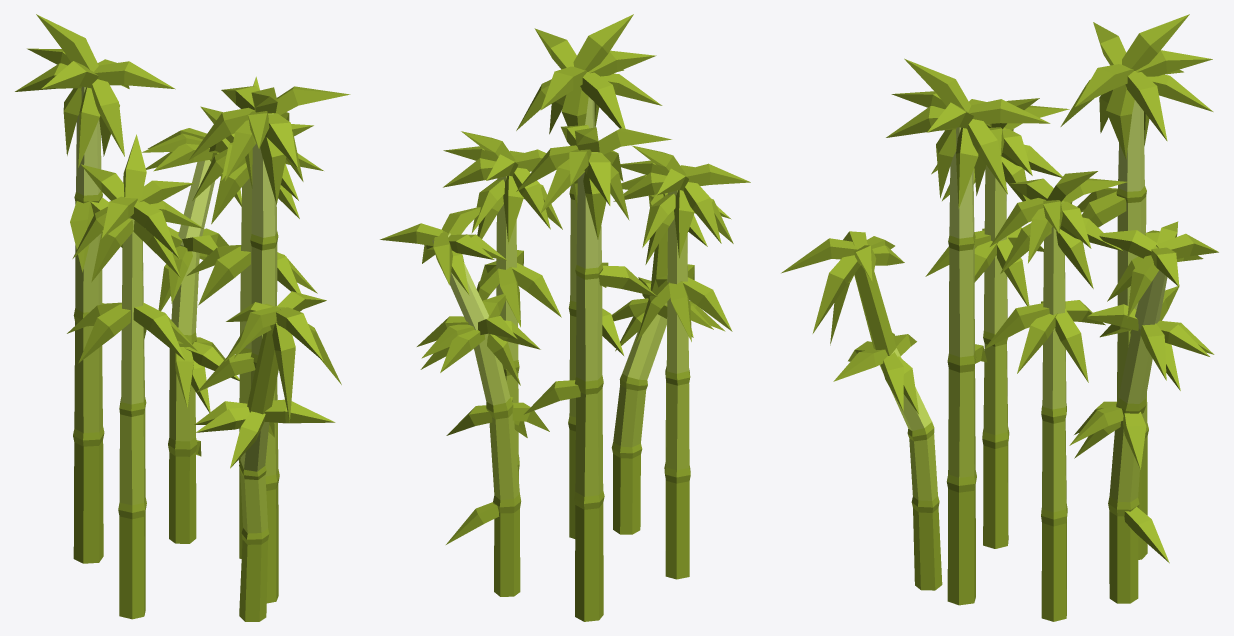
Rendered from bamboo_leaf_1.fbx.
3 views of the same model, side by side, from view 1: azimuth 30°, elevation 25°; view 2: azimuth 150°, elevation 25°; view 3: azimuth 270°, elevation 25° (orthographic). The views are drawn at different scales.
Visible parts, largest first — view 1: bamboo_leaf_1; view 2: bamboo_leaf_1; view 3: bamboo_leaf_1.
Boxes of the visible parts, box(x1,y1,x2,y2) form: bamboo_leaf_1: box(15, 14, 350, 621); bamboo_leaf_1: box(380, 14, 750, 621); bamboo_leaf_1: box(781, 14, 1218, 621).
Bounding box in the file's own units: 267 × 489 × 368.
